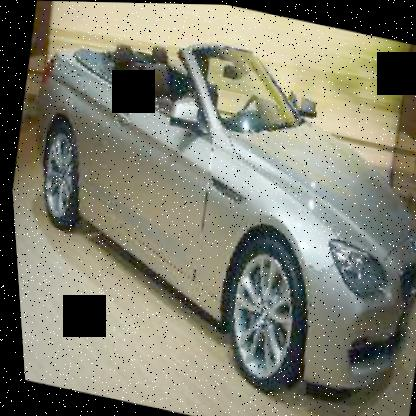not_emergency: (0, 5, 415, 408)
